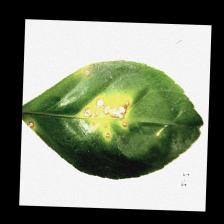canker: (61, 69, 146, 157)
